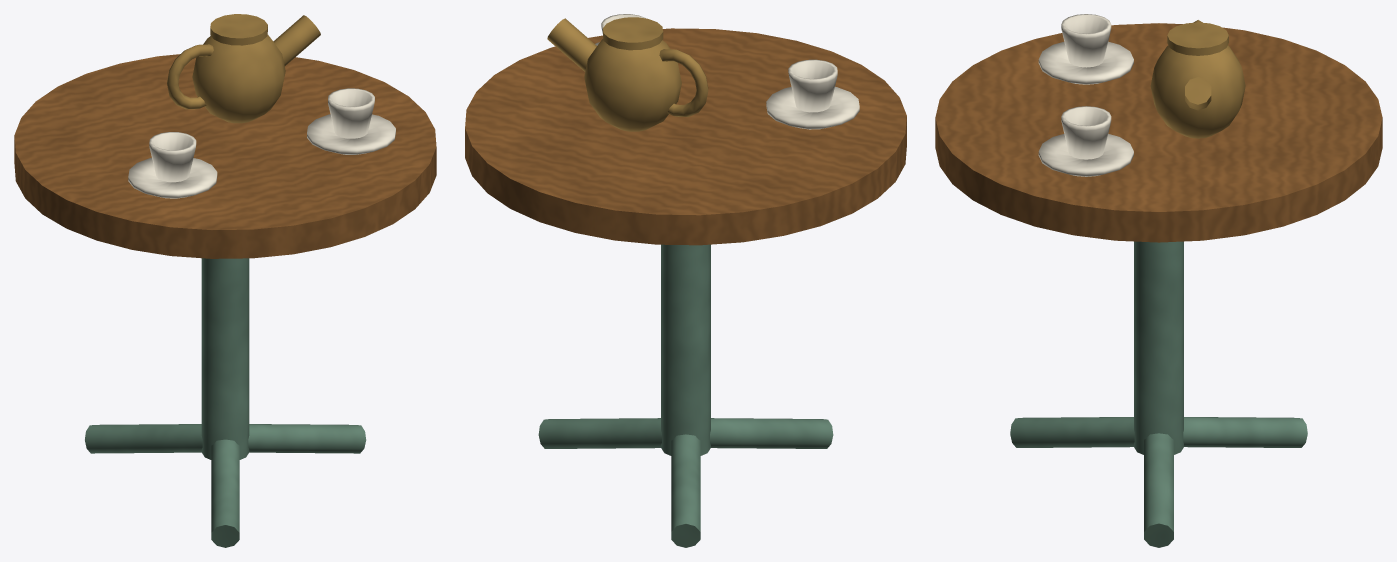
File: Furn_TeaTable.fbx
The picture shows the model from 3 angles, left to right: view 1: azimuth 30°, elevation 25°; view 2: azimuth 150°, elevation 25°; view 3: azimuth 270°, elevation 25°; orthographic projection. The views are drawn at different scales.
Visible parts, largest first — view 1: Furn_TeaTable_Mesh; view 2: Furn_TeaTable_Mesh; view 3: Furn_TeaTable_Mesh.
Boxes of the visible parts, left/top/right/bottom form: Furn_TeaTable_Mesh: left=14, top=14, right=436, bottom=547; Furn_TeaTable_Mesh: left=465, top=14, right=906, bottom=547; Furn_TeaTable_Mesh: left=935, top=14, right=1382, bottom=547.
Bounding box in the file's own units: 0.8 × 0.9122 × 0.8.
Materials: 4 (4 with a texture image).
